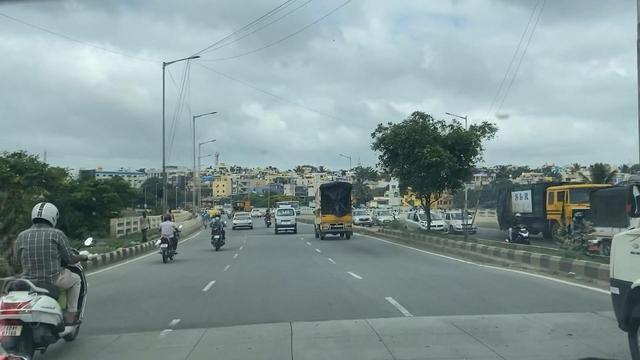LMV: (15, 213, 85, 355), (144, 213, 177, 257), (205, 209, 231, 249)
RoadDamages: (92, 309, 637, 334)
